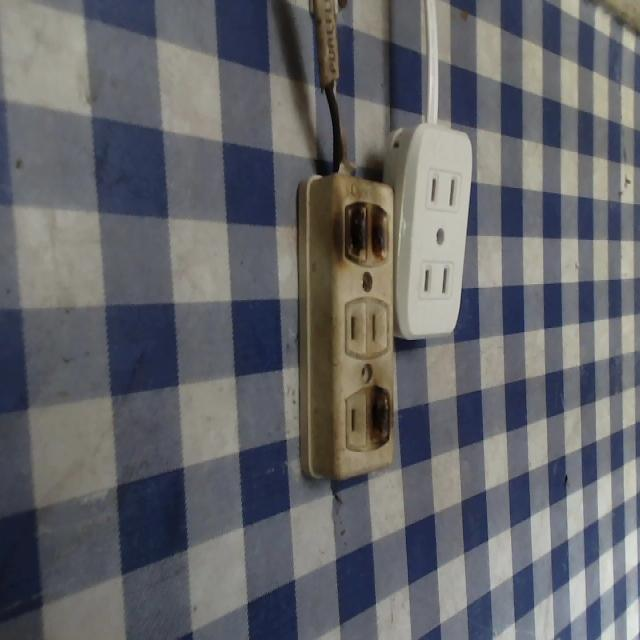-: (332, 198, 393, 270), (366, 386, 394, 446)
